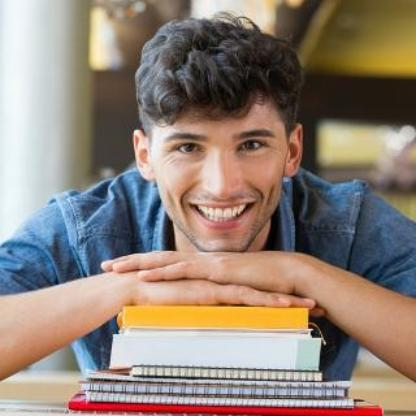person: (2, 9, 416, 396)
